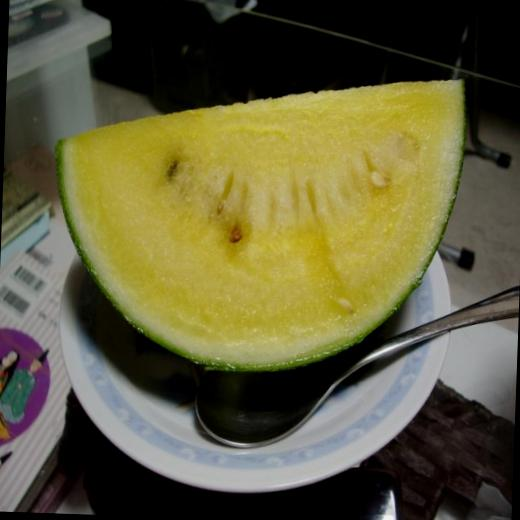Cherry: (47, 63, 468, 379)
